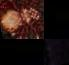spider: (0, 0, 44, 39)
zombie: (0, 39, 44, 65), (44, 0, 69, 39)
